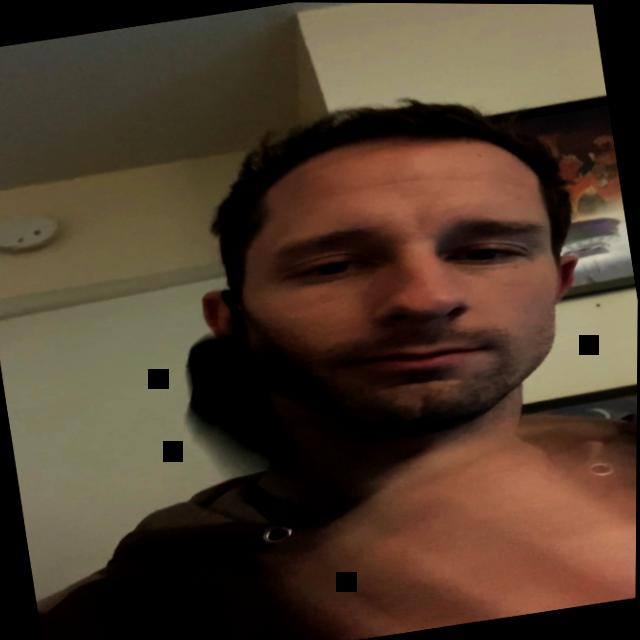NO-Mask: (188, 104, 610, 477)
